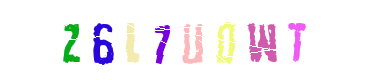0: (164, 0, 244, 80)
6: (62, 0, 142, 80)
7: (142, 0, 222, 80)
L: (113, 0, 193, 80)
T: (227, 0, 307, 80)
U: (150, 0, 230, 80)
W: (223, 0, 303, 80)
Z: (31, 0, 111, 80)
